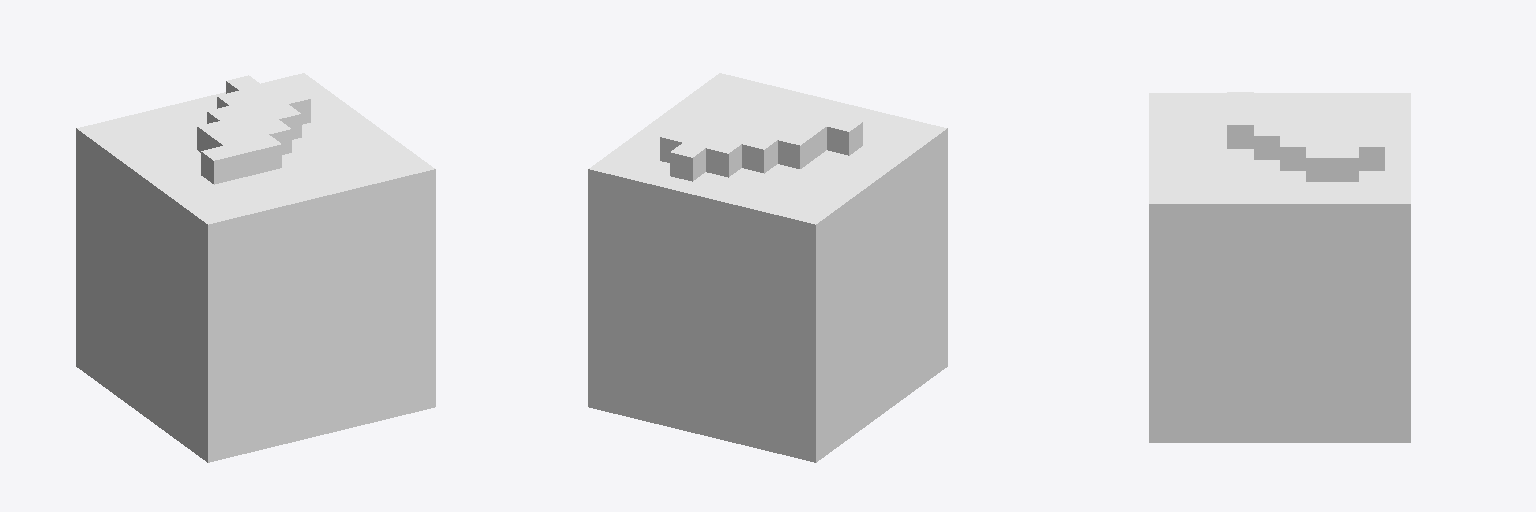
The model's file is MikangMob.obj.
3 renders of one model, left to right at view 1: azimuth 30°, elevation 25°; view 2: azimuth 150°, elevation 25°; view 3: azimuth 270°, elevation 25°, orthographic.
Parts seen in each view (by area): view 1: object 1; view 2: object 1; view 3: object 1.
Boxes of the visible parts, x1,y1,x2,y2 form: object 1: [76, 73, 435, 462]; object 1: [588, 73, 947, 462]; object 1: [1149, 92, 1410, 442].
Bounding box in the file's own units: 1 × 1.1 × 1.